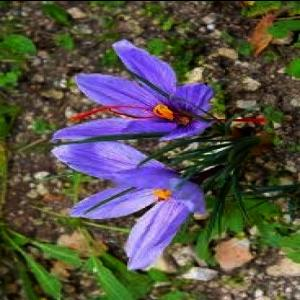Saffron: (55, 140, 209, 266), (54, 36, 211, 136)
